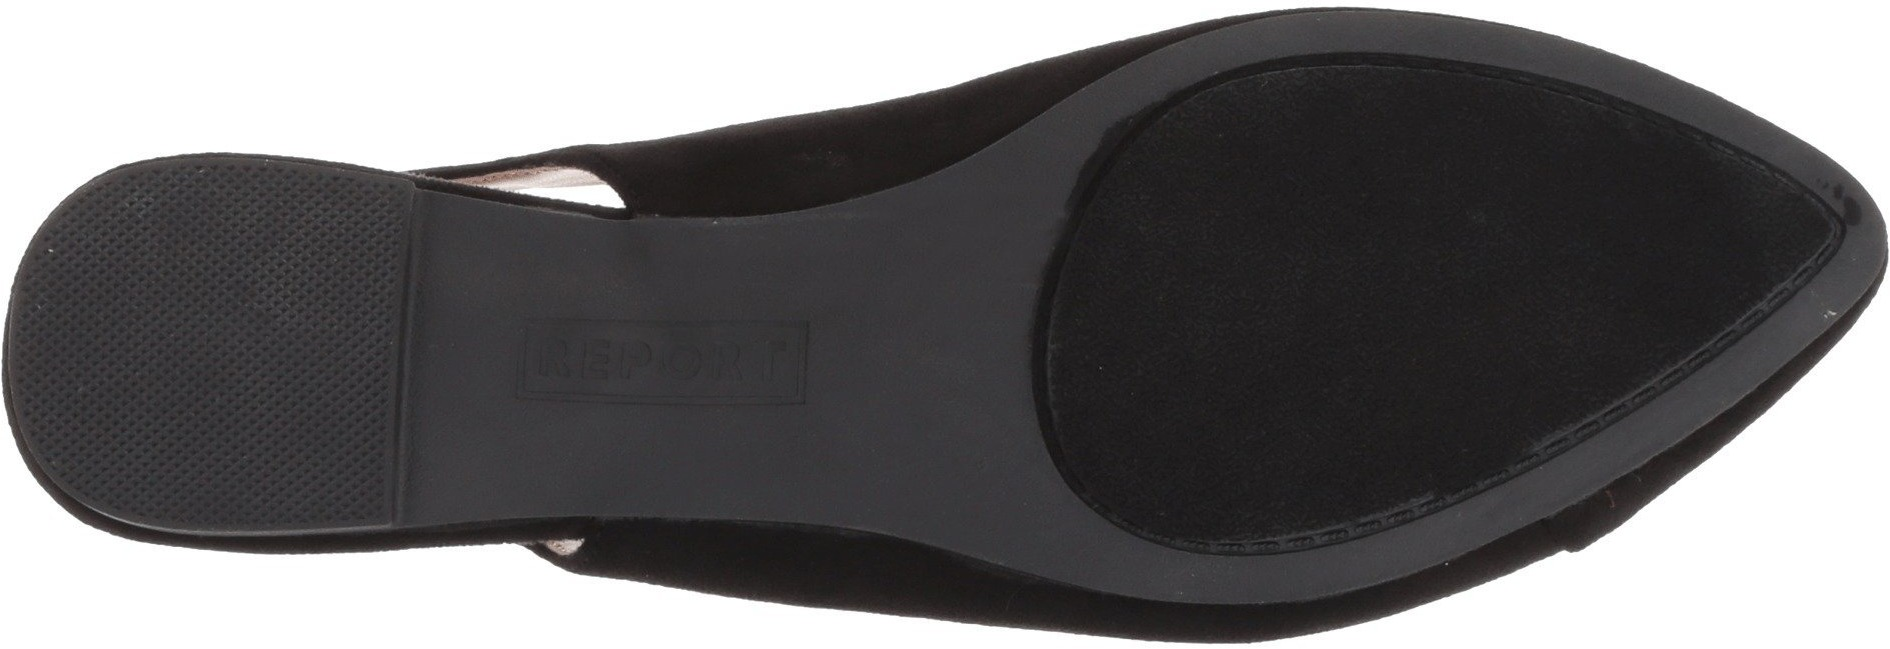exclude: (391, 146, 928, 600)
other: (1357, 105, 1626, 370), (55, 233, 297, 472), (1097, 191, 1351, 410), (1167, 415, 1302, 538), (1632, 170, 1760, 291), (293, 188, 407, 290)
